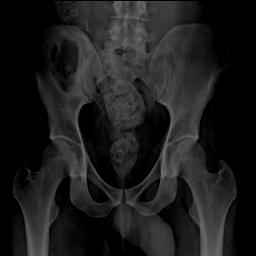cancer: (50, 38, 81, 90)
